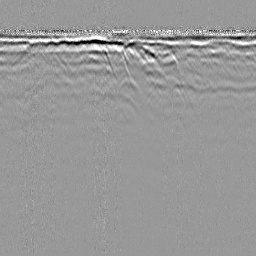cavity: (116, 76, 139, 91)
